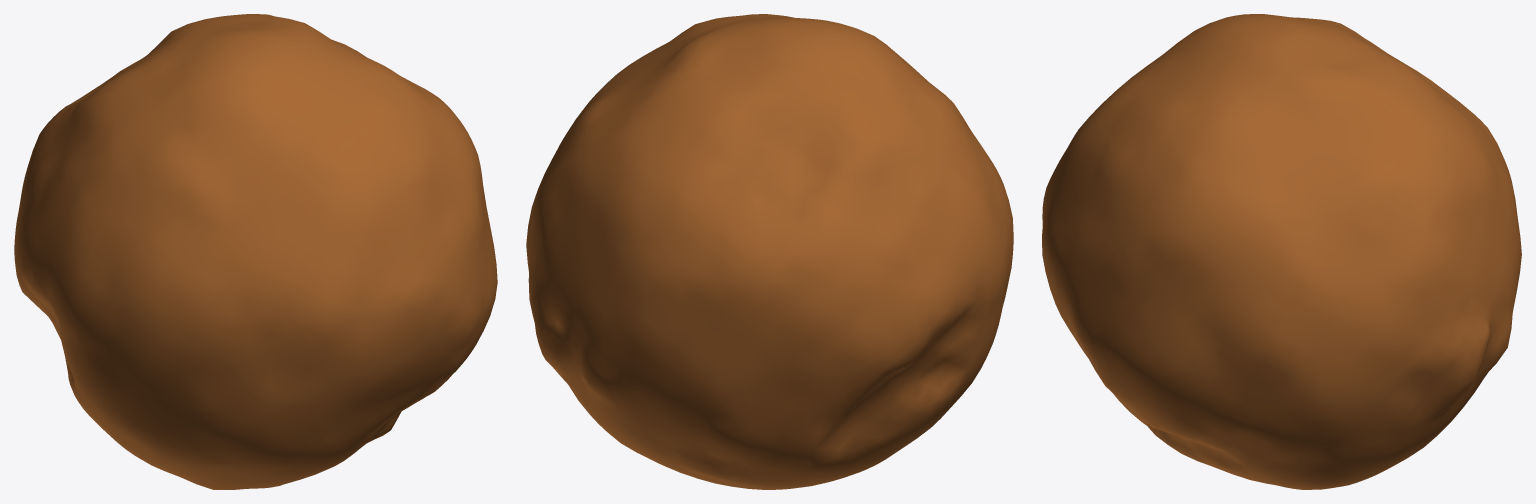
File: Planet.fbx
The picture shows the model from 3 angles, left to right: view 1: azimuth 30°, elevation 25°; view 2: azimuth 150°, elevation 25°; view 3: azimuth 270°, elevation 25°; orthographic projection.
Parts seen in each view (by area): view 1: Planet; view 2: Planet; view 3: Planet.
Part boxes in pixels (<box>): Planet: <box>14,14,497,489</box>; Planet: <box>526,14,1013,489</box>; Planet: <box>1042,14,1521,489</box>.
Bounding box in the file's own units: 1126 × 1119 × 1124.
